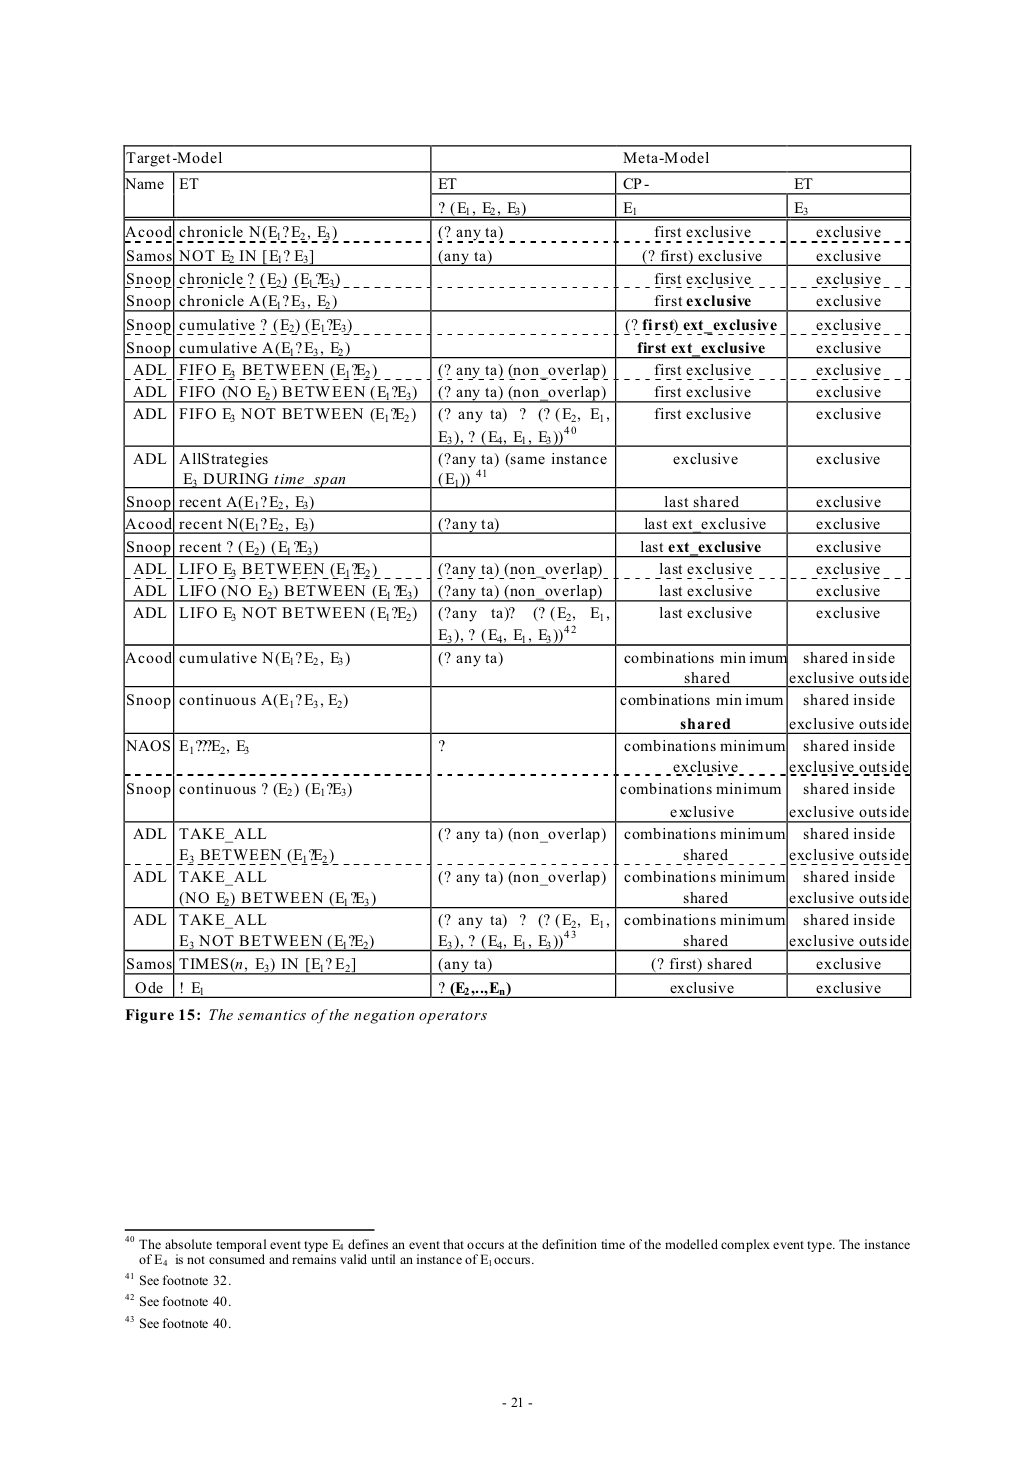Table: (123, 144, 911, 998)
figure: (124, 1228, 375, 1231)
